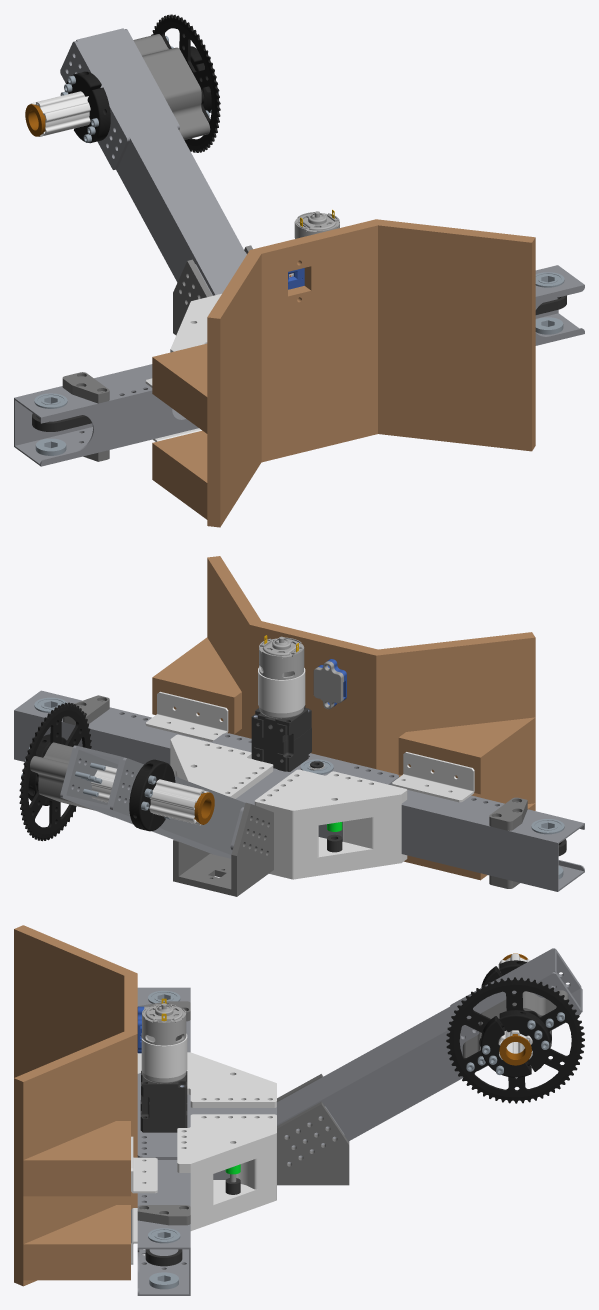
The picture shows the model from 3 angles, top to bottom: view 1: azimuth 30°, elevation 25°; view 2: azimuth 150°, elevation 25°; view 3: azimuth 270°, elevation 25°; orthographic projection. The views are drawn at different scales.
Parts seen in each view (by area): view 1: bucket guide left, bucket guide center, Tube 2"x2"x13.501", bucket guide right, Tube 2"x2"x23.188", bucket guide mount (×2), MAXSpline Spacer, 64T #25 Plate Sprocket MAXSpline (REV-21-1972), Box Tube MAXSpline Gusset, MAXSpline Shaft 7", pnuematic mount, Part 28 (+4 smaller); view 2: bucket guide right, Tube 2"x2"x23.188", pnuematic mount (×2), bucket guide mount (×3), bucket guide center, bucket guide left, VersaFrame Angle (×2), Part 28, Tube 2"x2"x13.501", 775pro Motor (217-4347), 64T #25 Plate Sprocket MAXSpline (REV-21-1972), MAXSpline Shaft 7" (+11 smaller); view 3: bucket guide left, bucket guide mount (×2), Tube 2"x2"x13.501", pnuematic mount (×2), bucket guide right, 64T #25 Plate Sprocket MAXSpline (REV-21-1972), Part 28, Tube 2"x2"x23.188", 775pro Motor (217-4347), REV-21-2581 (×2), Top Gusset, MAXSpline Spacer (+9 smaller).
Boxes of the visible parts, x1,y1,x2,y2 form: bucket guide left: (360, 219, 535, 451); bucket guide center: (261, 223, 377, 462); Tube 2"x2"x13.501": (76, 28, 246, 295); bucket guide right: (207, 246, 266, 527); Tube 2"x2"x23.188": (14, 265, 584, 466); bucket guide mount (×2): (152, 343, 207, 519); MAXSpline Spacer: (133, 34, 210, 139); 64T #25 Plate Sprocket MAXSpline (REV-21-1972): (151, 14, 220, 152); Box Tube MAXSpline Gusset: (60, 41, 129, 169); MAXSpline Shaft 7": (30, 91, 90, 136); pnuematic mount: (170, 293, 221, 352); Part 28: (173, 245, 252, 335); bucket guide right: (359, 632, 535, 803); Tube 2"x2"x23.188": (14, 690, 584, 891); pnuematic mount (×2): (170, 734, 407, 879); bucket guide mount (×3): (152, 637, 535, 880); bucket guide center: (261, 621, 377, 764); bucket guide left: (207, 556, 266, 738); VersaFrame Angle (×2): (145, 691, 474, 802); Part 28: (173, 802, 273, 896); Tube 2"x2"x13.501": (62, 746, 245, 858); 775pro Motor (217-4347): (258, 635, 305, 718); 64T #25 Plate Sprocket MAXSpline (REV-21-1972): (19, 702, 91, 841); MAXSpline Shaft 7": (91, 766, 209, 825); bucket guide left: (14, 1026, 137, 1286); bucket guide mount (×2): (23, 1121, 130, 1280); Tube 2"x2"x13.501": (277, 948, 582, 1162); pnuematic mount (×2): (177, 1052, 276, 1230); bucket guide right: (14, 925, 137, 1077); 64T #25 Plate Sprocket MAXSpline (REV-21-1972): (446, 977, 584, 1103); Part 28: (277, 1074, 349, 1185); Tube 2"x2"x23.188": (137, 987, 190, 1295); 775pro Motor (217-4347): (141, 998, 187, 1083); REV-21-2581 (×2): (481, 1010, 550, 1077); Top Gusset: (137, 1073, 276, 1159); MAXSpline Spacer: (462, 990, 568, 1057).
Size of the model in its own units: 0.589 by 0.2759 by 0.5467.
